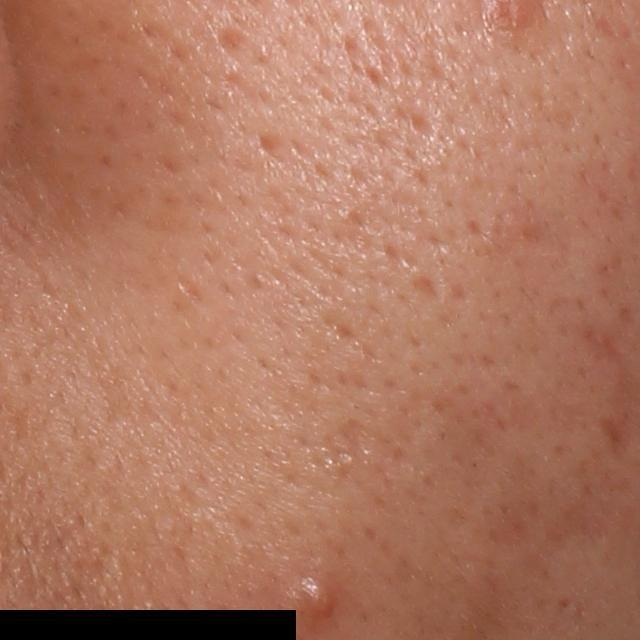atrophic_scar: (318, 418, 376, 481), (215, 26, 248, 60), (322, 312, 358, 341), (407, 275, 442, 304), (255, 126, 283, 161)
papule: (284, 569, 339, 622)
